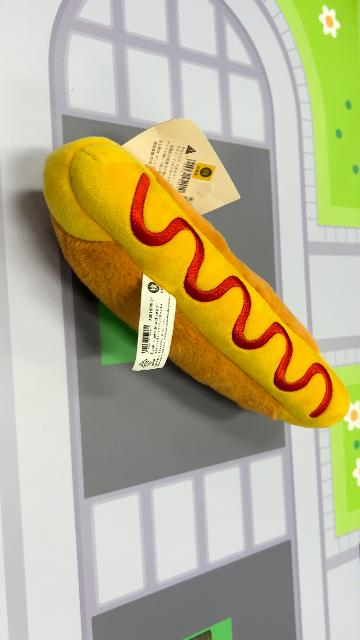hotdog: (42, 135, 352, 431)
